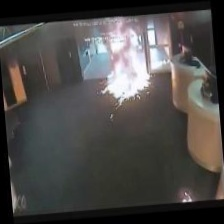fire: (90, 26, 161, 127)
